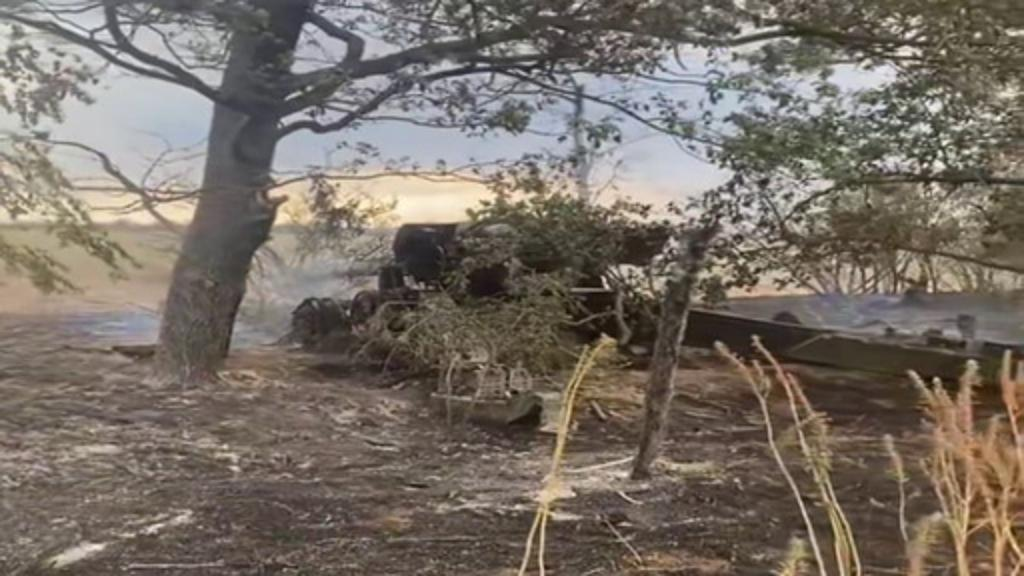ART: (280, 220, 1022, 434)
